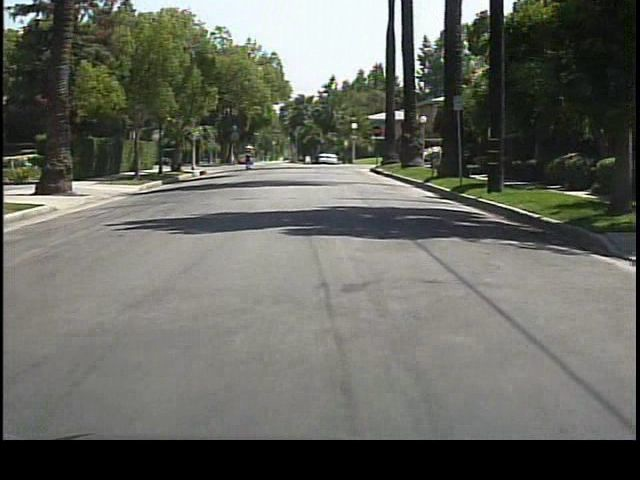person: (241, 140, 257, 172)
